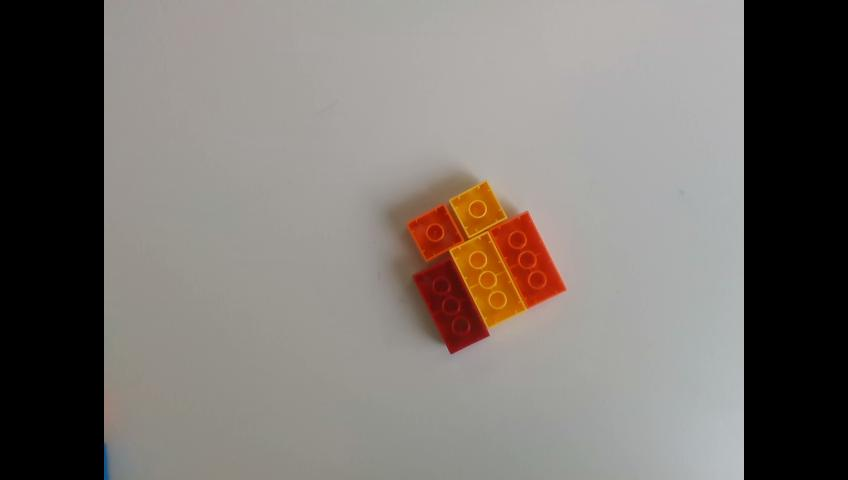2x2_orange: (407, 203, 467, 265)
2x2_yellow: (448, 181, 508, 241)
4x2_orange: (492, 212, 569, 311)
4x2_red: (413, 254, 492, 355)
4x2_yellow: (447, 234, 525, 327)
